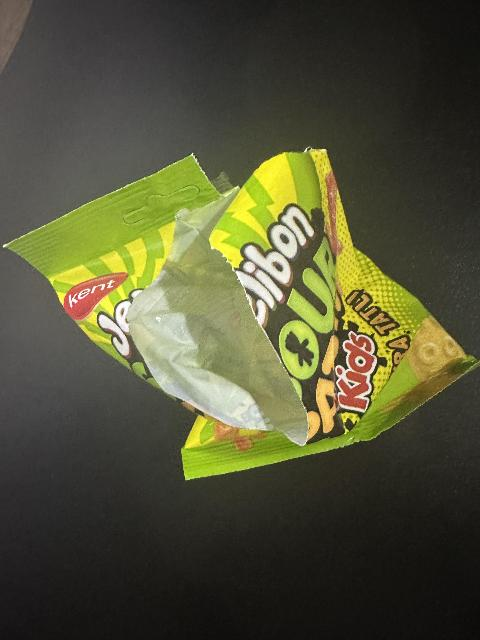Plastik: (0, 148, 480, 475)
